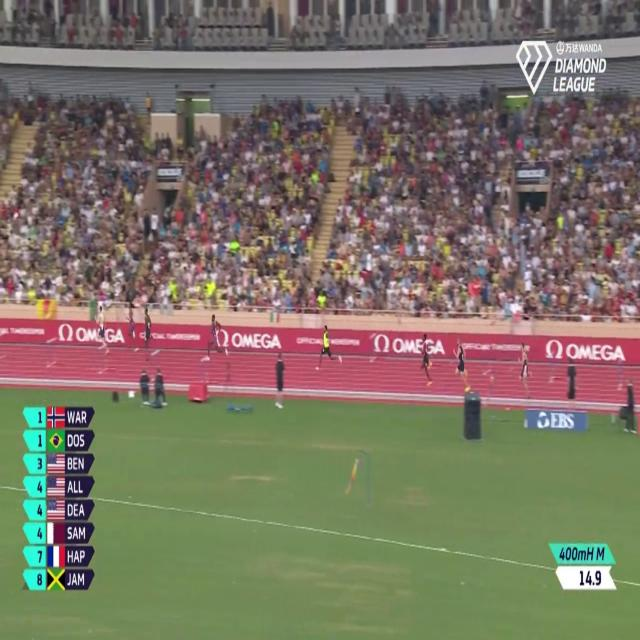athlete: (448, 327, 474, 393), (203, 306, 229, 369), (316, 321, 344, 379), (514, 336, 535, 403), (416, 327, 436, 392), (125, 292, 142, 368), (92, 299, 114, 357), (139, 307, 150, 364)
hurdle: (43, 334, 60, 374), (94, 339, 108, 382), (195, 353, 209, 390), (479, 343, 494, 377), (147, 348, 160, 382), (368, 326, 380, 361), (546, 351, 558, 386)
